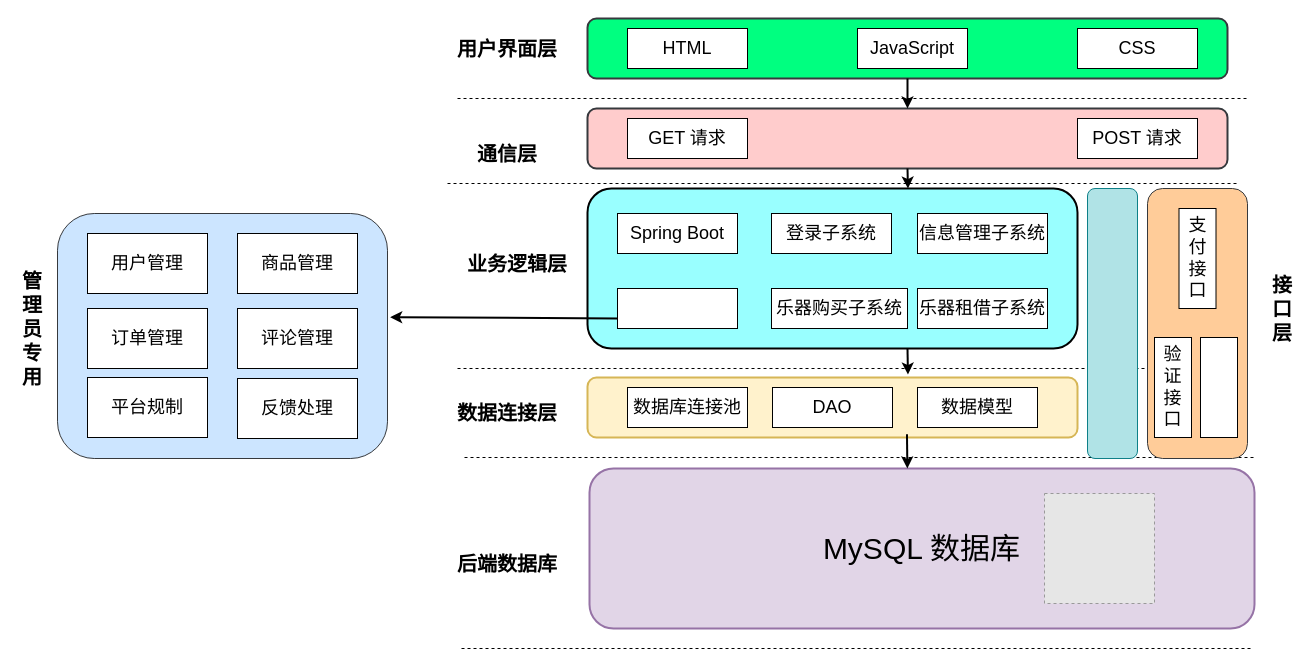
This 1314x667 diagram has some shape labels left out. Grey dashed boxes stand in for pictures. The shapes that lost their labels are listed below. From the top down, each one's centre as x and y in pixels, then its label:
At (677,308): "管理员子系统".
At (1112,323): "日志 记录".
At (1219,387): "A I 接口".
